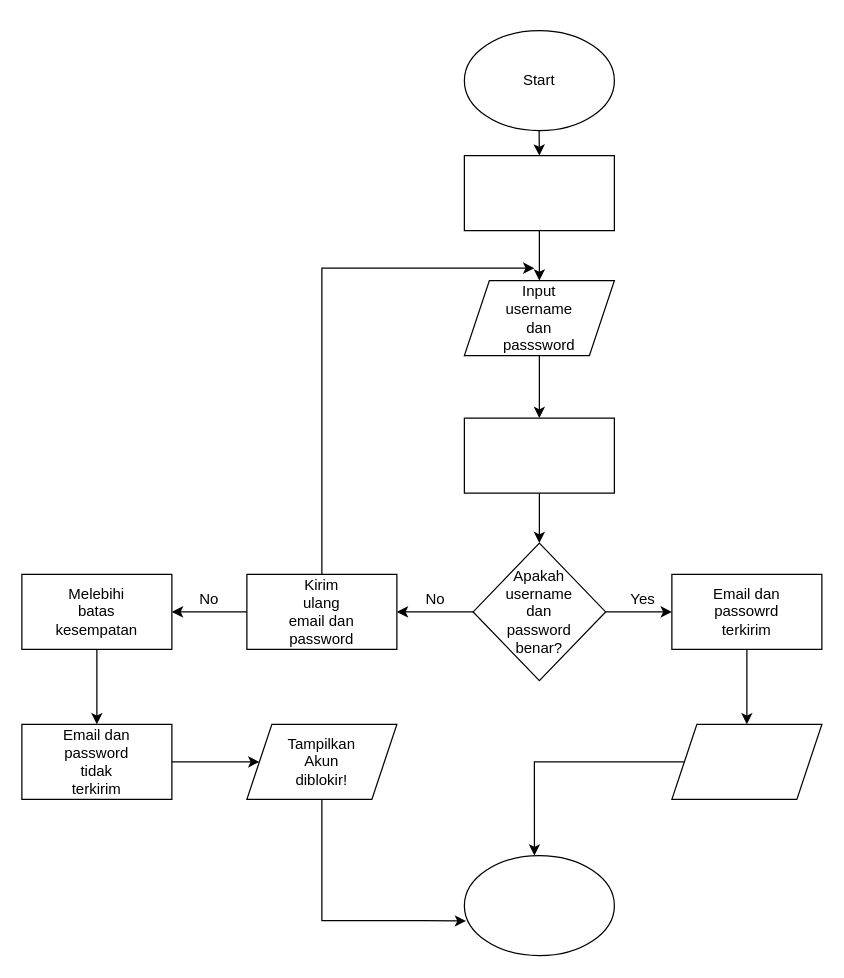
This 844x978 diagram has some shape labels left out. Here are the shapes that lost their labels. From the top down, the centre of each, then its label:
(x=538, y=192): Kesempatan 3
(x=538, y=455): Kirim email dan password
(x=746, y=761): Tampilkan Login berhasil!
(x=538, y=905): Finish
